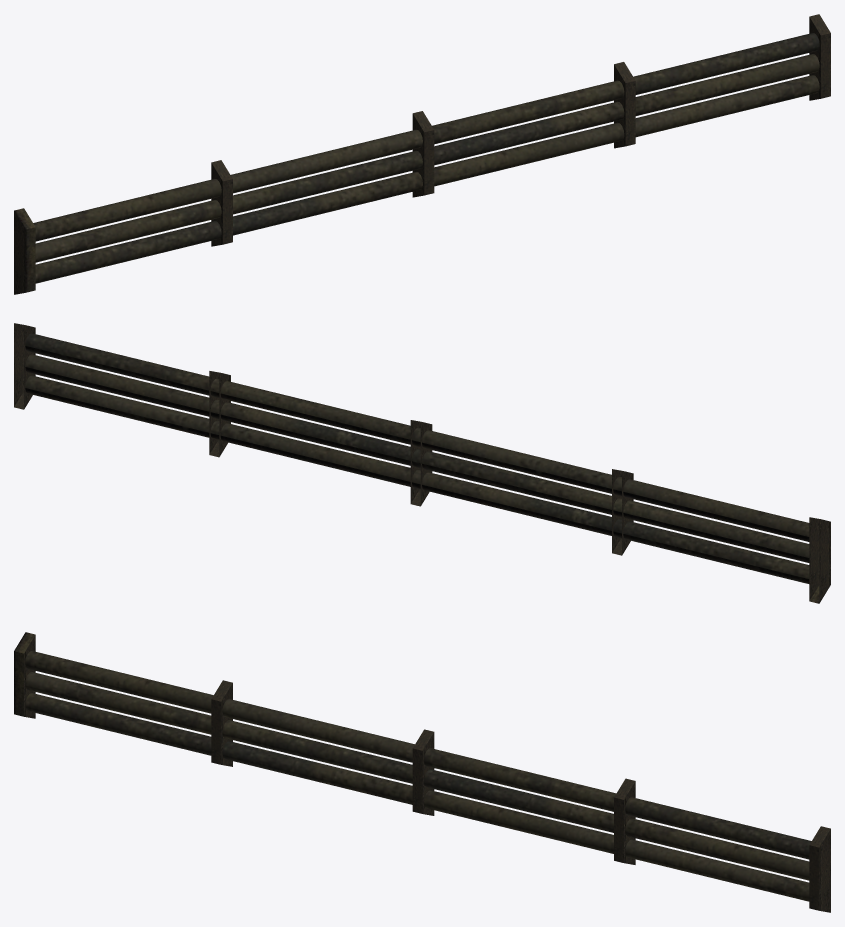
Rendered from pipes_hr_1_horizontal_middle_2.dae.
3 renders of one model, top to bottom at view 1: azimuth 30°, elevation 25°; view 2: azimuth 150°, elevation 25°; view 3: azimuth 330°, elevation 25°, orthographic.
Parts seen in each view (by area): view 1: pipes_hr_1_horizontal_middle_2; view 2: pipes_hr_1_horizontal_middle_2; view 3: pipes_hr_1_horizontal_middle_2.
Boxes of the visible parts, left/top/right/bottom form: pipes_hr_1_horizontal_middle_2: left=14, top=14, right=830, bottom=294; pipes_hr_1_horizontal_middle_2: left=14, top=323, right=830, bottom=603; pipes_hr_1_horizontal_middle_2: left=14, top=632, right=830, bottom=912.
Bounding box in the file's own units: 4 × 0.1 × 0.4.
Materials: 1 (1 with a texture image).
